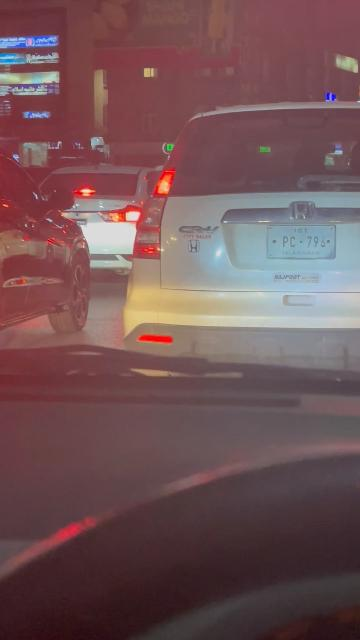plate: (264, 222, 336, 260)
